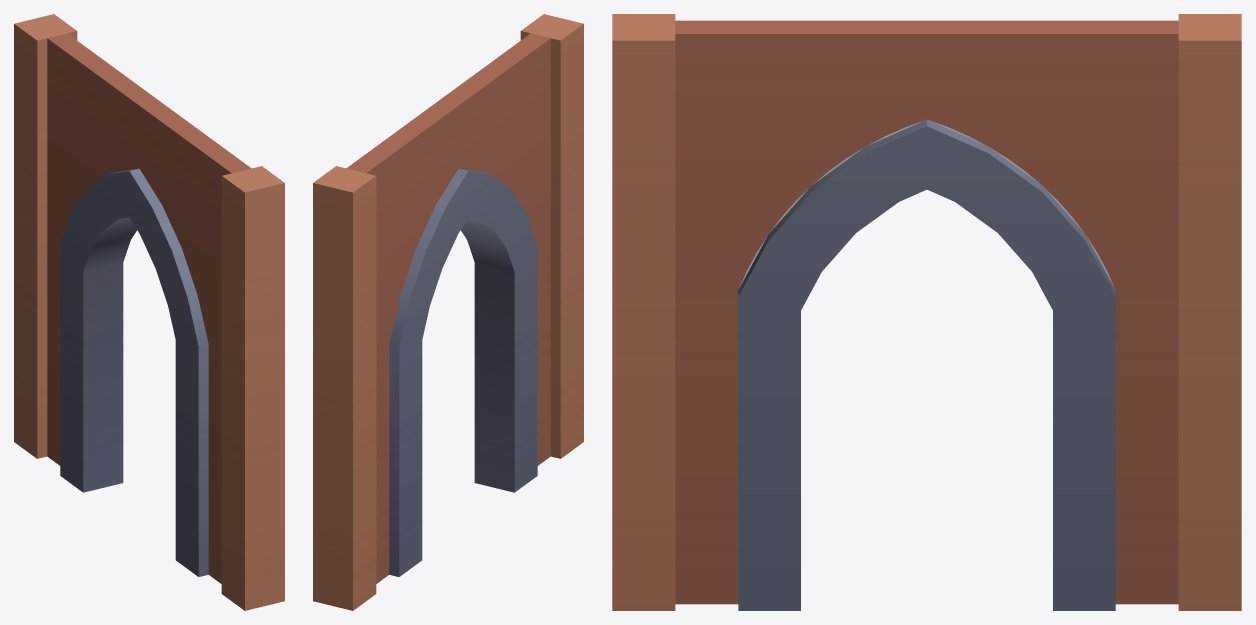
The model's file is wall-wood-doorway-round.fbx.
3 views of the same model, side by side, from view 1: azimuth 30°, elevation 25°; view 2: azimuth 150°, elevation 25°; view 3: azimuth 270°, elevation 25° (orthographic). The views are drawn at different scales.
Parts seen in each view (by area): view 1: wall-wood-doorway-round; view 2: wall-wood-doorway-round; view 3: wall-wood-doorway-round.
Boxes of the visible parts, x1,y1,x2,y2 form: wall-wood-doorway-round: [14, 14, 284, 610]; wall-wood-doorway-round: [313, 14, 583, 610]; wall-wood-doorway-round: [612, 14, 1241, 610].
Size of the model in its own units: 10 by 100 by 100.
Materials: 1 (1 with a texture image).
